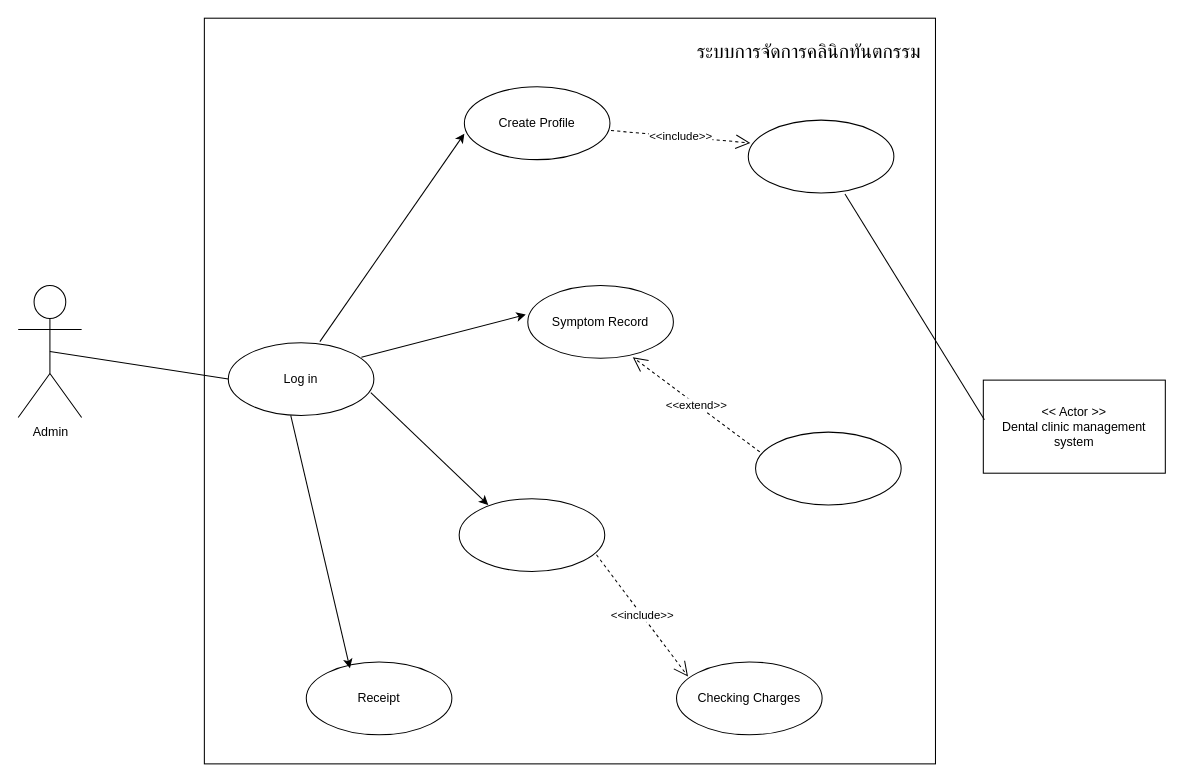
Image size: 1184x782. Some labels were removed from this diagram. Each missing label, with the centre of its shape:
Appointments: [828,468]
Checking Details: [820,156]
Create Patient Card: [531,534]
